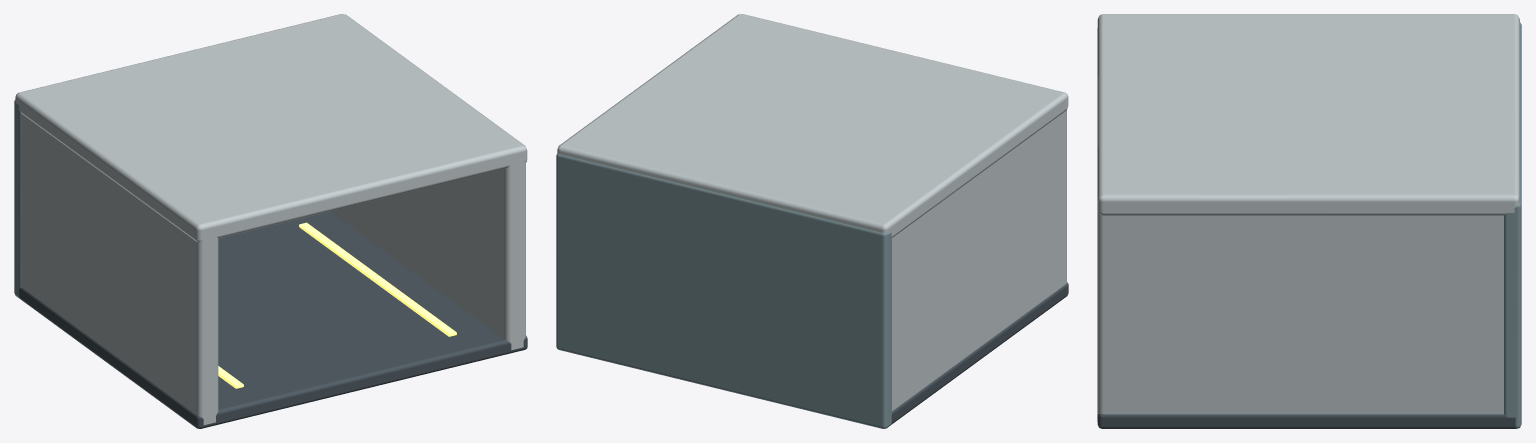
The picture shows the model from 3 angles, left to right: view 1: azimuth 30°, elevation 25°; view 2: azimuth 150°, elevation 25°; view 3: azimuth 270°, elevation 25°; orthographic projection. The views are drawn at different scales.
Parts seen in each view (by area): view 1: hangar-bay; view 2: hangar-bay; view 3: hangar-bay.
Part boxes in pixels (left/top/right/bottom): hangar-bay: left=14, top=14, right=527, bottom=428; hangar-bay: left=556, top=14, right=1068, bottom=428; hangar-bay: left=1097, top=14, right=1521, bottom=428.
Bounding box in the file's own units: 2.8 × 1.65 × 2.71.
